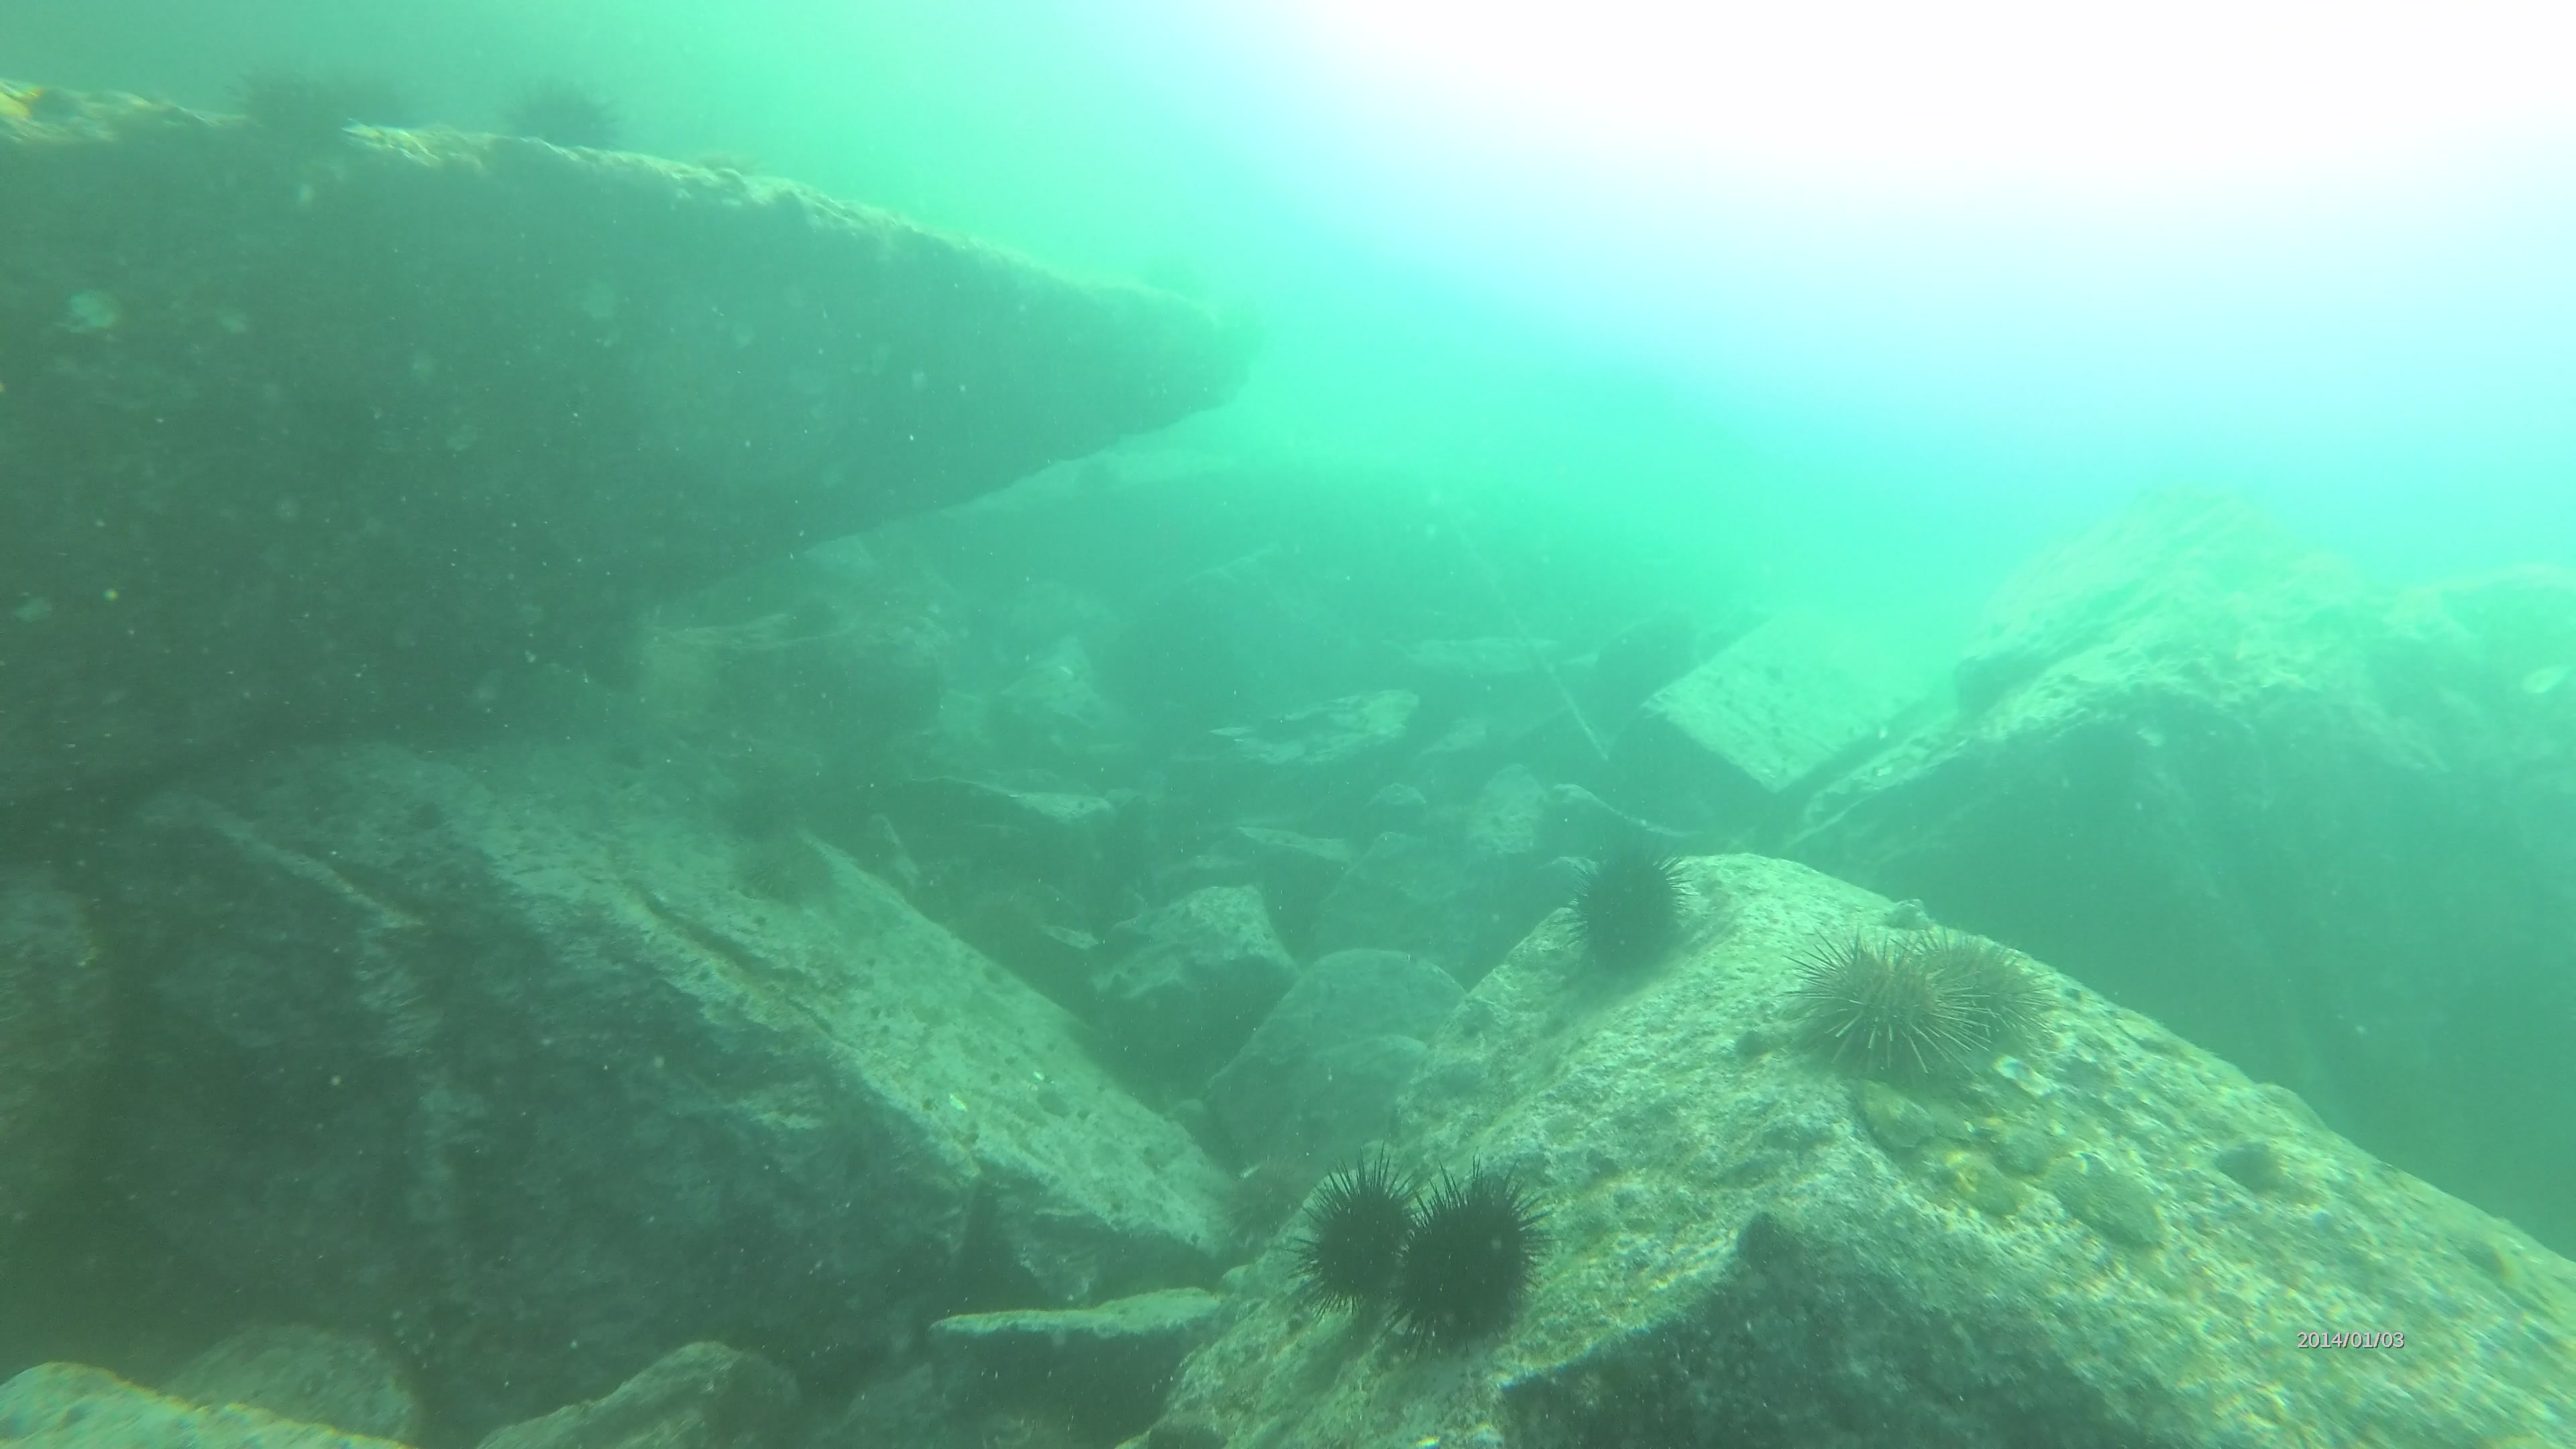echinus: (1371, 1168, 1560, 1350), (1775, 931, 1962, 1074), (1286, 1148, 1426, 1290), (1568, 849, 1702, 991), (1893, 941, 2043, 1063), (504, 74, 621, 186), (230, 67, 347, 172), (720, 821, 837, 908), (320, 85, 419, 159)
